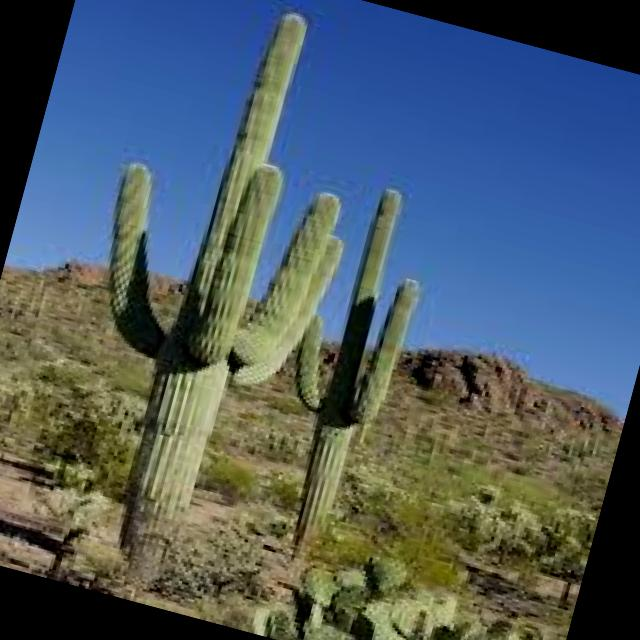cactus: (22, 0, 543, 546)
